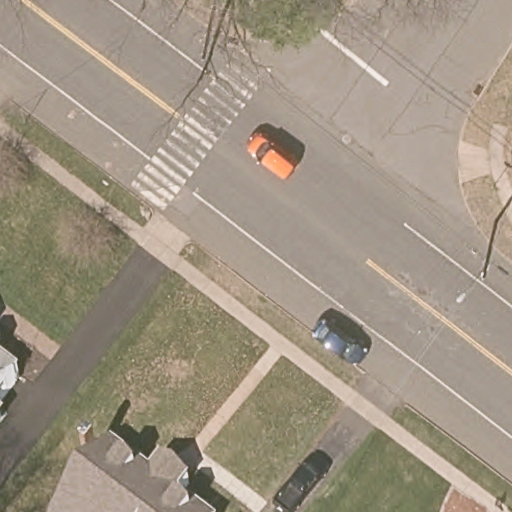DT: (455, 248, 503, 304)
